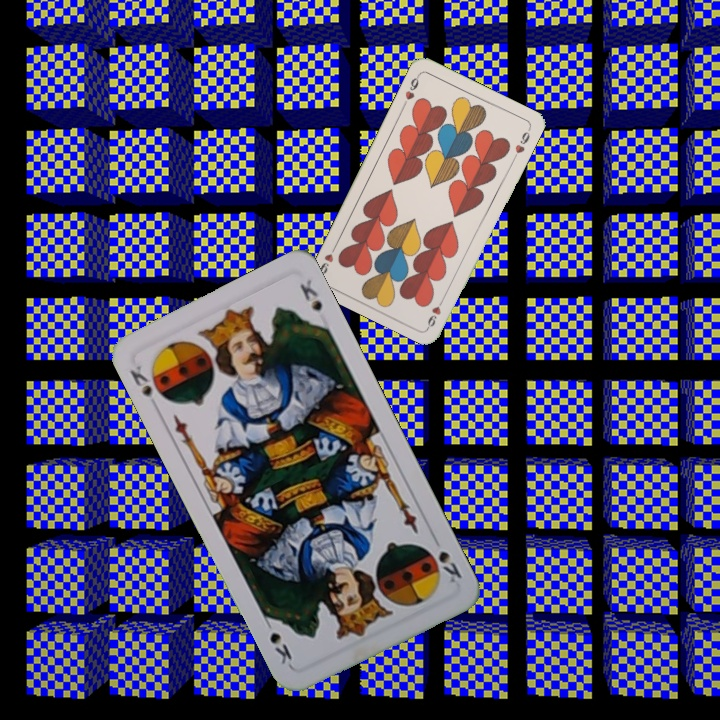H9: (423, 292, 447, 330), (401, 70, 423, 103)
SK: (428, 531, 465, 586), (125, 361, 162, 412)
